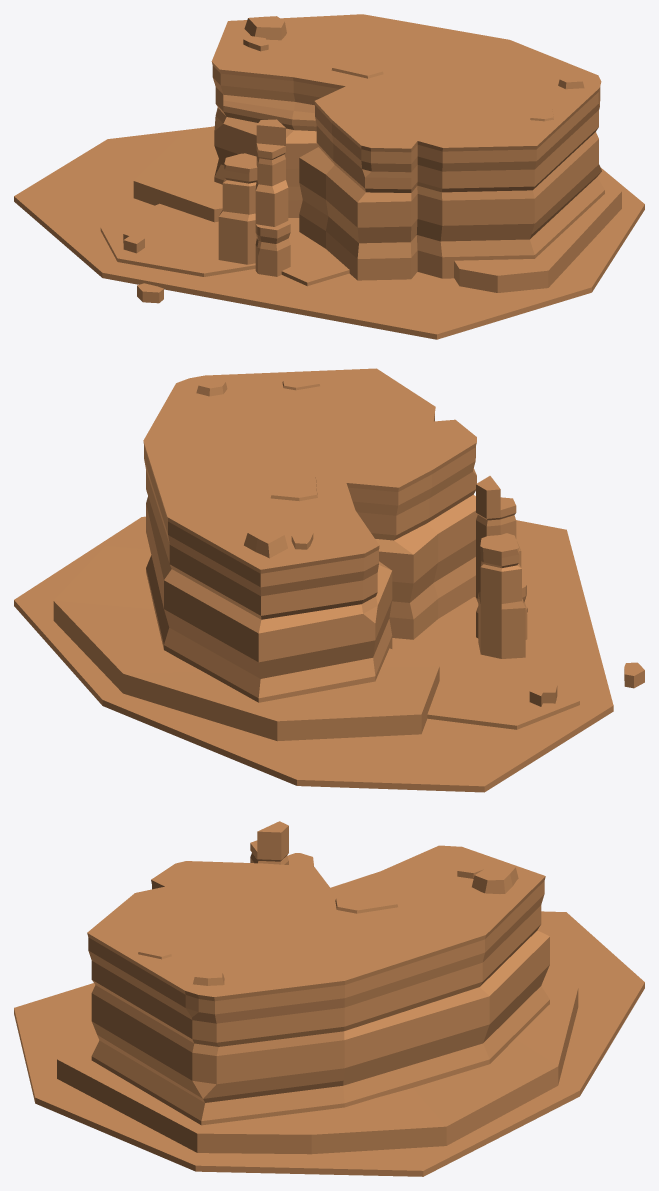
File: SandRocks2_LOD1.fbx
3 views of the same model, one above another, from view 1: azimuth 30°, elevation 25°; view 2: azimuth 150°, elevation 25°; view 3: azimuth 270°, elevation 25° (orthographic). The views are drawn at different scales.
Parts seen in each view (by area): view 1: Plane.176; view 2: Plane.176; view 3: Plane.176.
Boxes of the visible parts, <box> form: Plane.176: <box>14,14,644,339</box>; Plane.176: <box>14,368,644,792</box>; Plane.176: <box>14,821,644,1176</box>.
Size of the model in its own units: 257 by 75.57 by 258.
